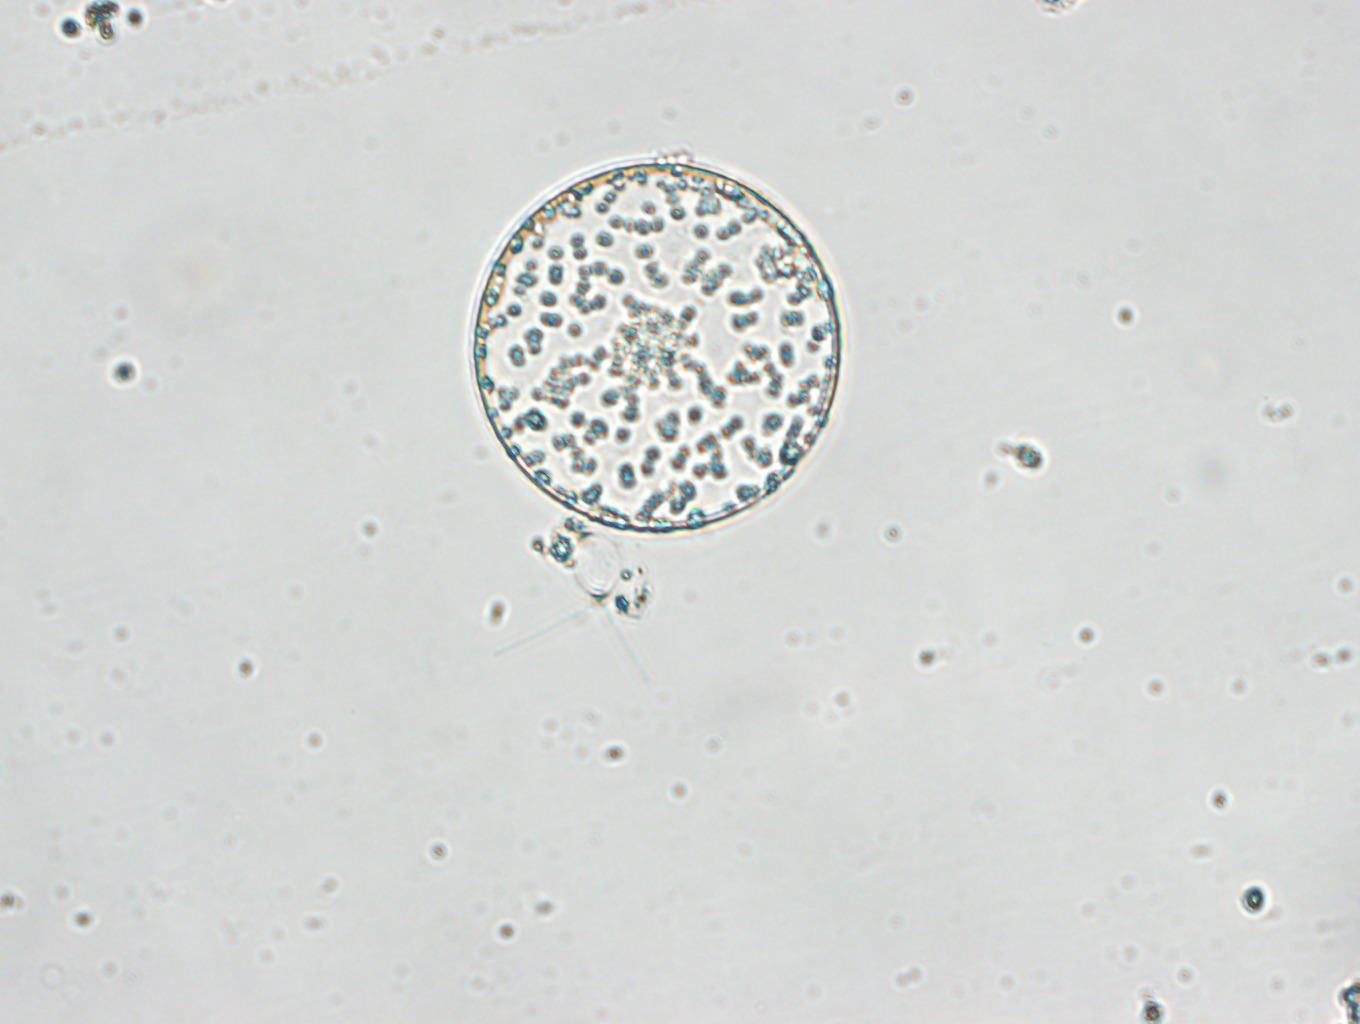coscinodiscus: (466, 153, 844, 530)
